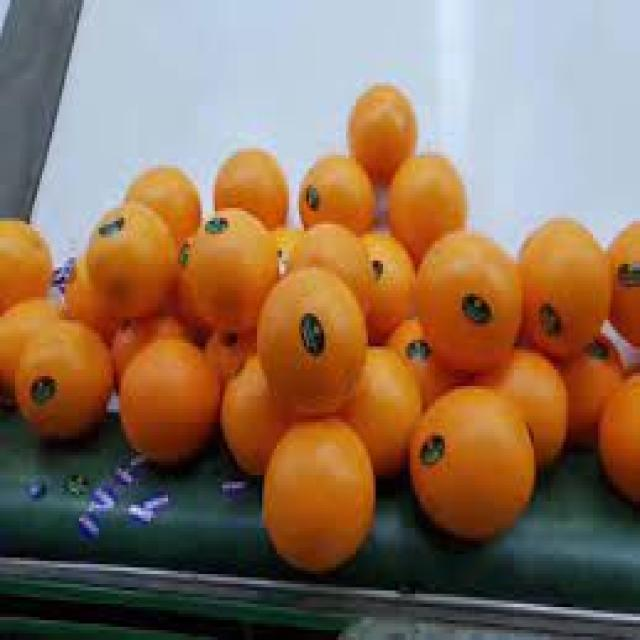orange: (412, 392, 544, 554), (262, 271, 369, 412), (8, 306, 109, 429), (342, 86, 422, 180)
